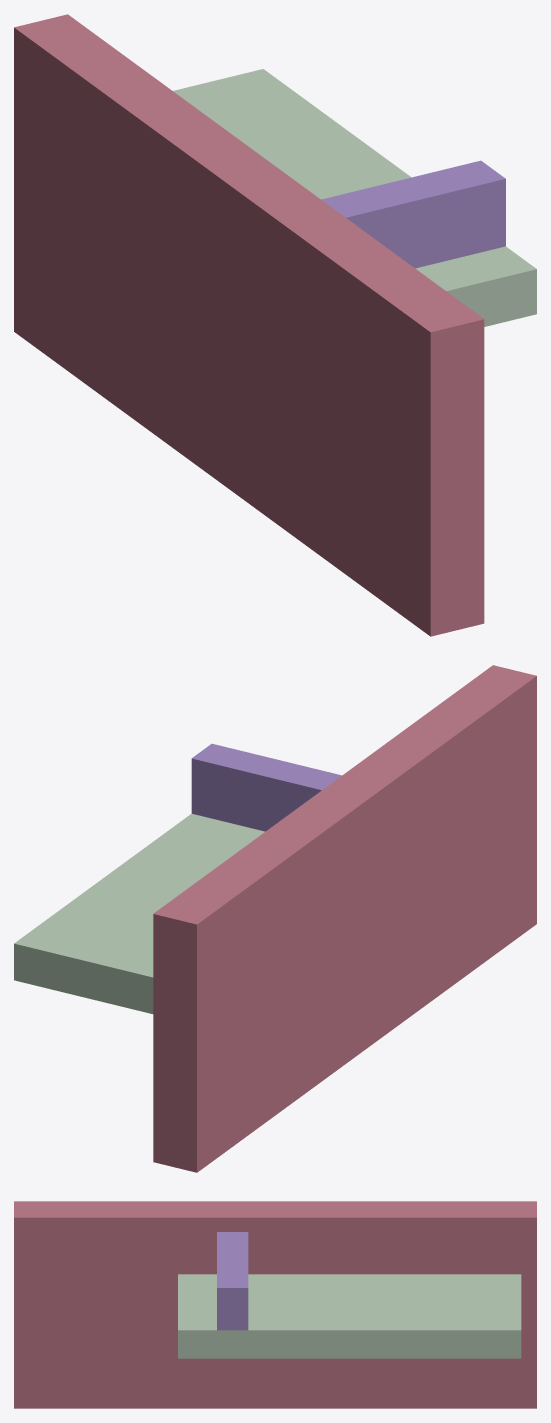
Rendered from 199527_pred.glb.
3 renders of one model, top to bottom at view 1: azimuth 30°, elevation 25°; view 2: azimuth 150°, elevation 25°; view 3: azimuth 270°, elevation 25°, orthographic. The views are drawn at different scales.
Parts seen in each view (by area): view 1: world; view 2: world; view 3: world.
Part boxes in pixels (left/top/right/bottom): world: left=14, top=14, right=536, bottom=636; world: left=14, top=665, right=536, bottom=1172; world: left=14, top=1201, right=536, bottom=1408.
Size of the model in its own units: 2.2 by 2.7 by 6.7.
